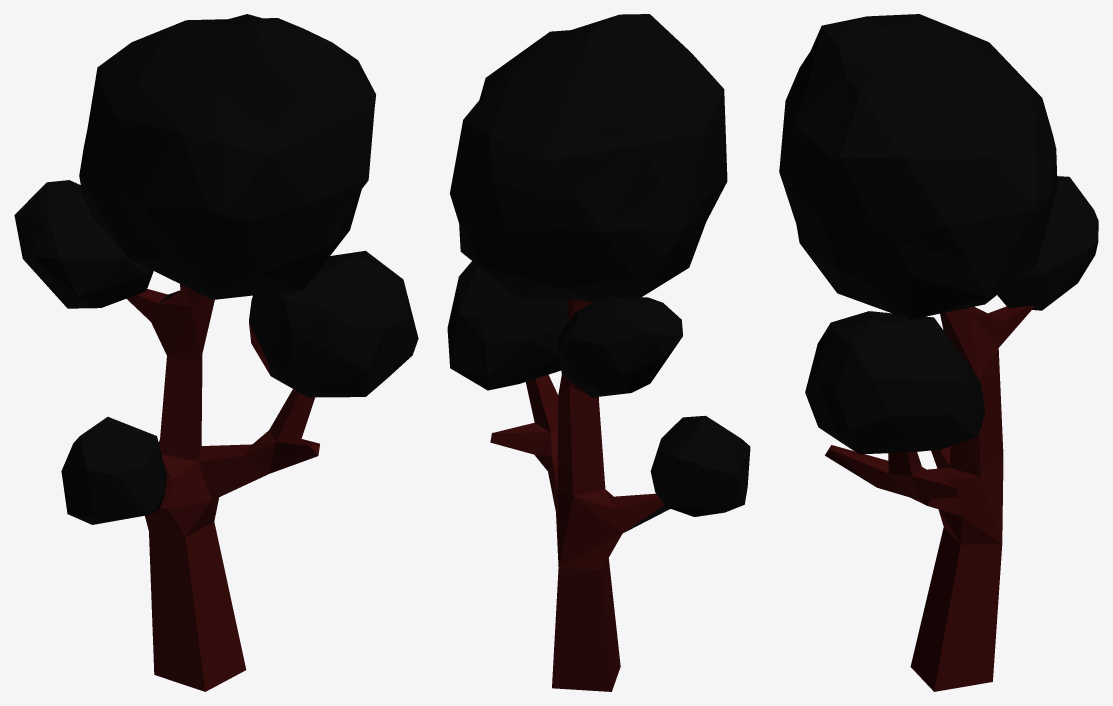
The model's file is leaf.obj.
3 renders of one model, left to right at view 1: azimuth 30°, elevation 25°; view 2: azimuth 150°, elevation 25°; view 3: azimuth 270°, elevation 25°, orthographic. The views are drawn at different scales.
Parts seen in each view (by area): view 1: leaf_Mesh.015; view 2: leaf_Mesh.015; view 3: leaf_Mesh.015.
Boxes of the visible parts, left/top/right/bottom form: leaf_Mesh.015: left=14, top=14, right=418, bottom=691; leaf_Mesh.015: left=447, top=14, right=750, bottom=691; leaf_Mesh.015: left=779, top=14, right=1098, bottom=691.
Size of the model in its own units: 3.09 by 6.29 by 2.76.
